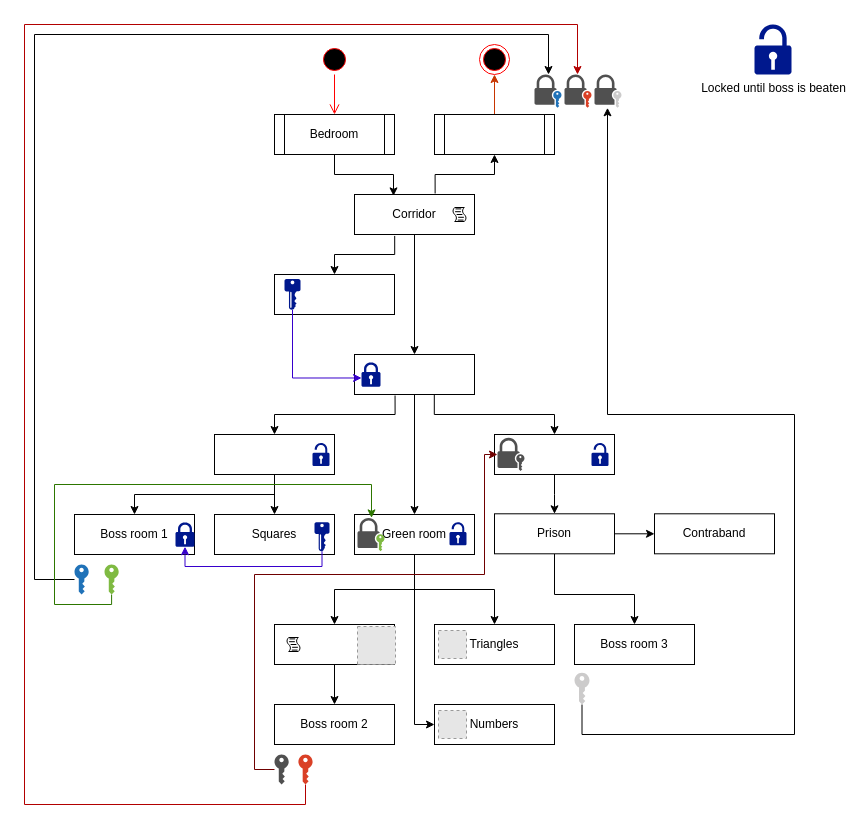
This 863x830 diagram has some shape labels left out. Grey dashed boxes stand in for pictures. Each missing label, with the box of its shape:
Blue room: (214, 434, 334, 474)
Circles: (274, 624, 394, 664)
Kitchen: (434, 114, 554, 154)
Living room: (274, 274, 394, 314)
Study room: (354, 354, 474, 394)
Yellow room: (494, 434, 614, 474)
